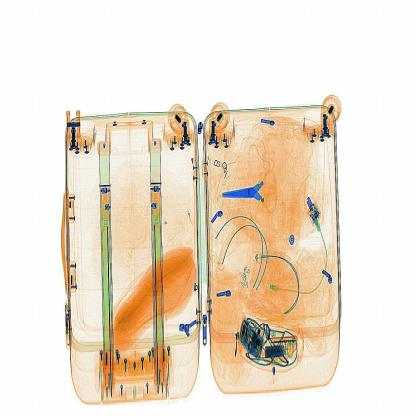gun: (222, 171, 280, 221)
